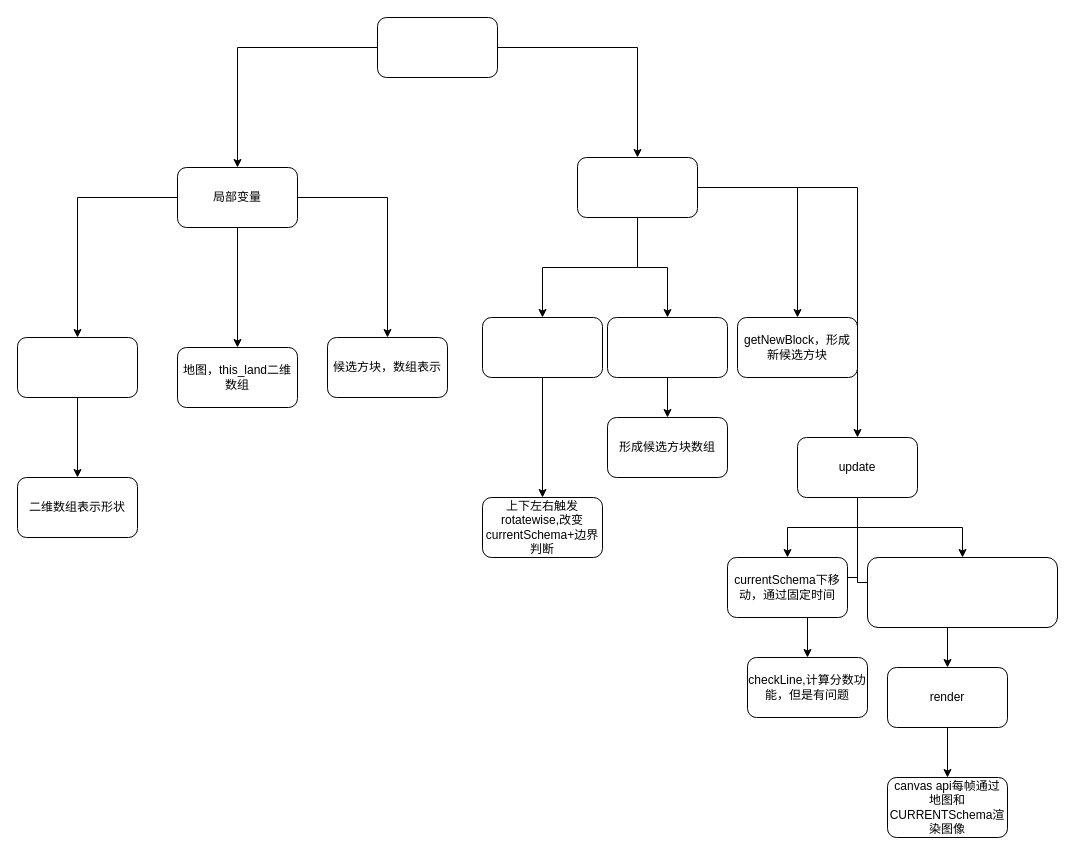
Image size: 1075x855. Some labels were removed from this diagram. Each missing label, with the box of its shape:
CURRENT SCHEMA，正在行动的图案: (16, 336, 138, 398)
GAME CLASS: (376, 16, 498, 78)
requestAnimationFrame 每帧运行: (866, 556, 1058, 628)
RUN function: (576, 156, 698, 218)
windows监听键盘行动: (482, 316, 602, 378)
通过初始化长宽 形成地图（this.land): (606, 316, 728, 378)
